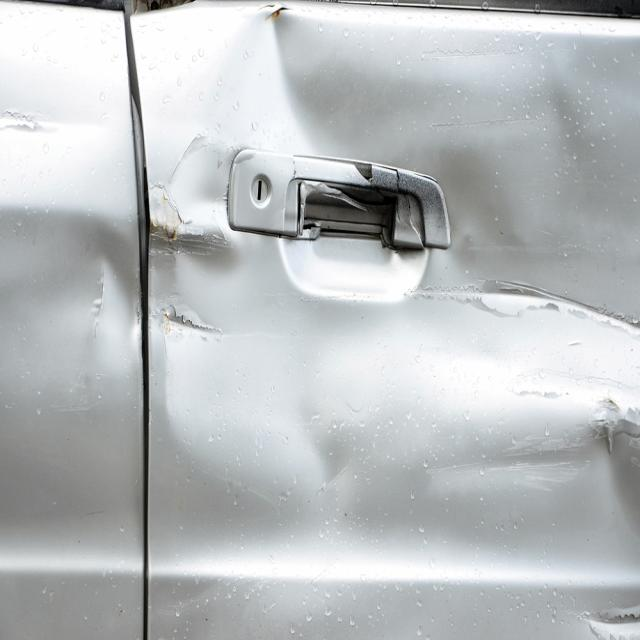Cabossage: (158, 122, 289, 477), (226, 14, 543, 160), (3, 211, 131, 388), (596, 398, 640, 558)
Rayure: (464, 267, 640, 355), (431, 423, 596, 492), (144, 183, 230, 274), (137, 297, 229, 360), (81, 255, 112, 358), (582, 597, 640, 640), (266, 2, 300, 32)
